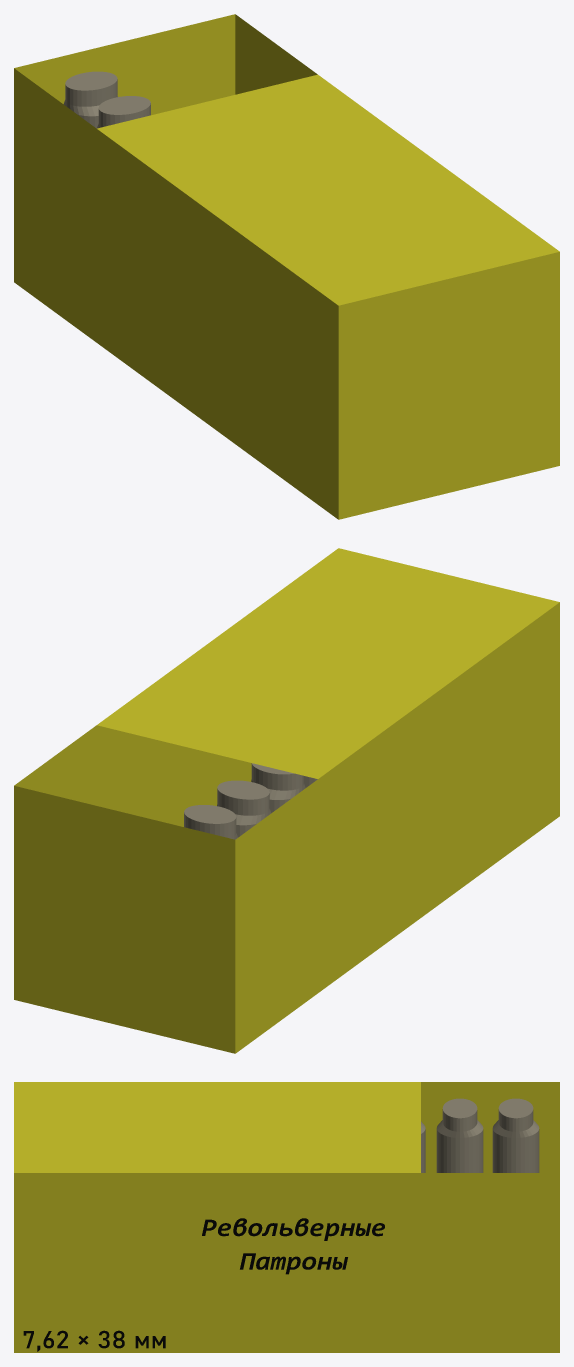
The model's file is bullet_rev.glb.
3 renders of one model, top to bottom at view 1: azimuth 30°, elevation 25°; view 2: azimuth 150°, elevation 25°; view 3: azimuth 270°, elevation 25°, orthographic. The views are drawn at different scales.
Visible parts, largest first — view 1: Куб, Патрон, Патрон.001; view 2: Куб, Патрон.001, Патрон.002, Патрон; view 3: Куб, Патрон, Патрон.001, Текст.001, Текст.
Boxes of the visible parts, left/top/right/bottom form: Куб: left=14, top=14, right=559, bottom=519; Патрон: left=63, top=71, right=117, bottom=128; Патрон.001: left=97, top=96, right=150, bottom=128; Куб: left=14, top=548, right=559, bottom=1053; Патрон.001: left=217, top=780, right=271, bottom=837; Патрон.002: left=251, top=763, right=305, bottom=812; Патрон: left=184, top=805, right=237, bottom=839; Куб: left=14, top=1082, right=559, bottom=1352; Патрон: left=492, top=1098, right=539, bottom=1172; Патрон.001: left=436, top=1098, right=483, bottom=1172; Текст.001: left=202, top=1218, right=384, bottom=1274; Текст: left=23, top=1330, right=165, bottom=1351.
Bounding box in the file's own units: 0.7936 × 0.7279 × 2.
